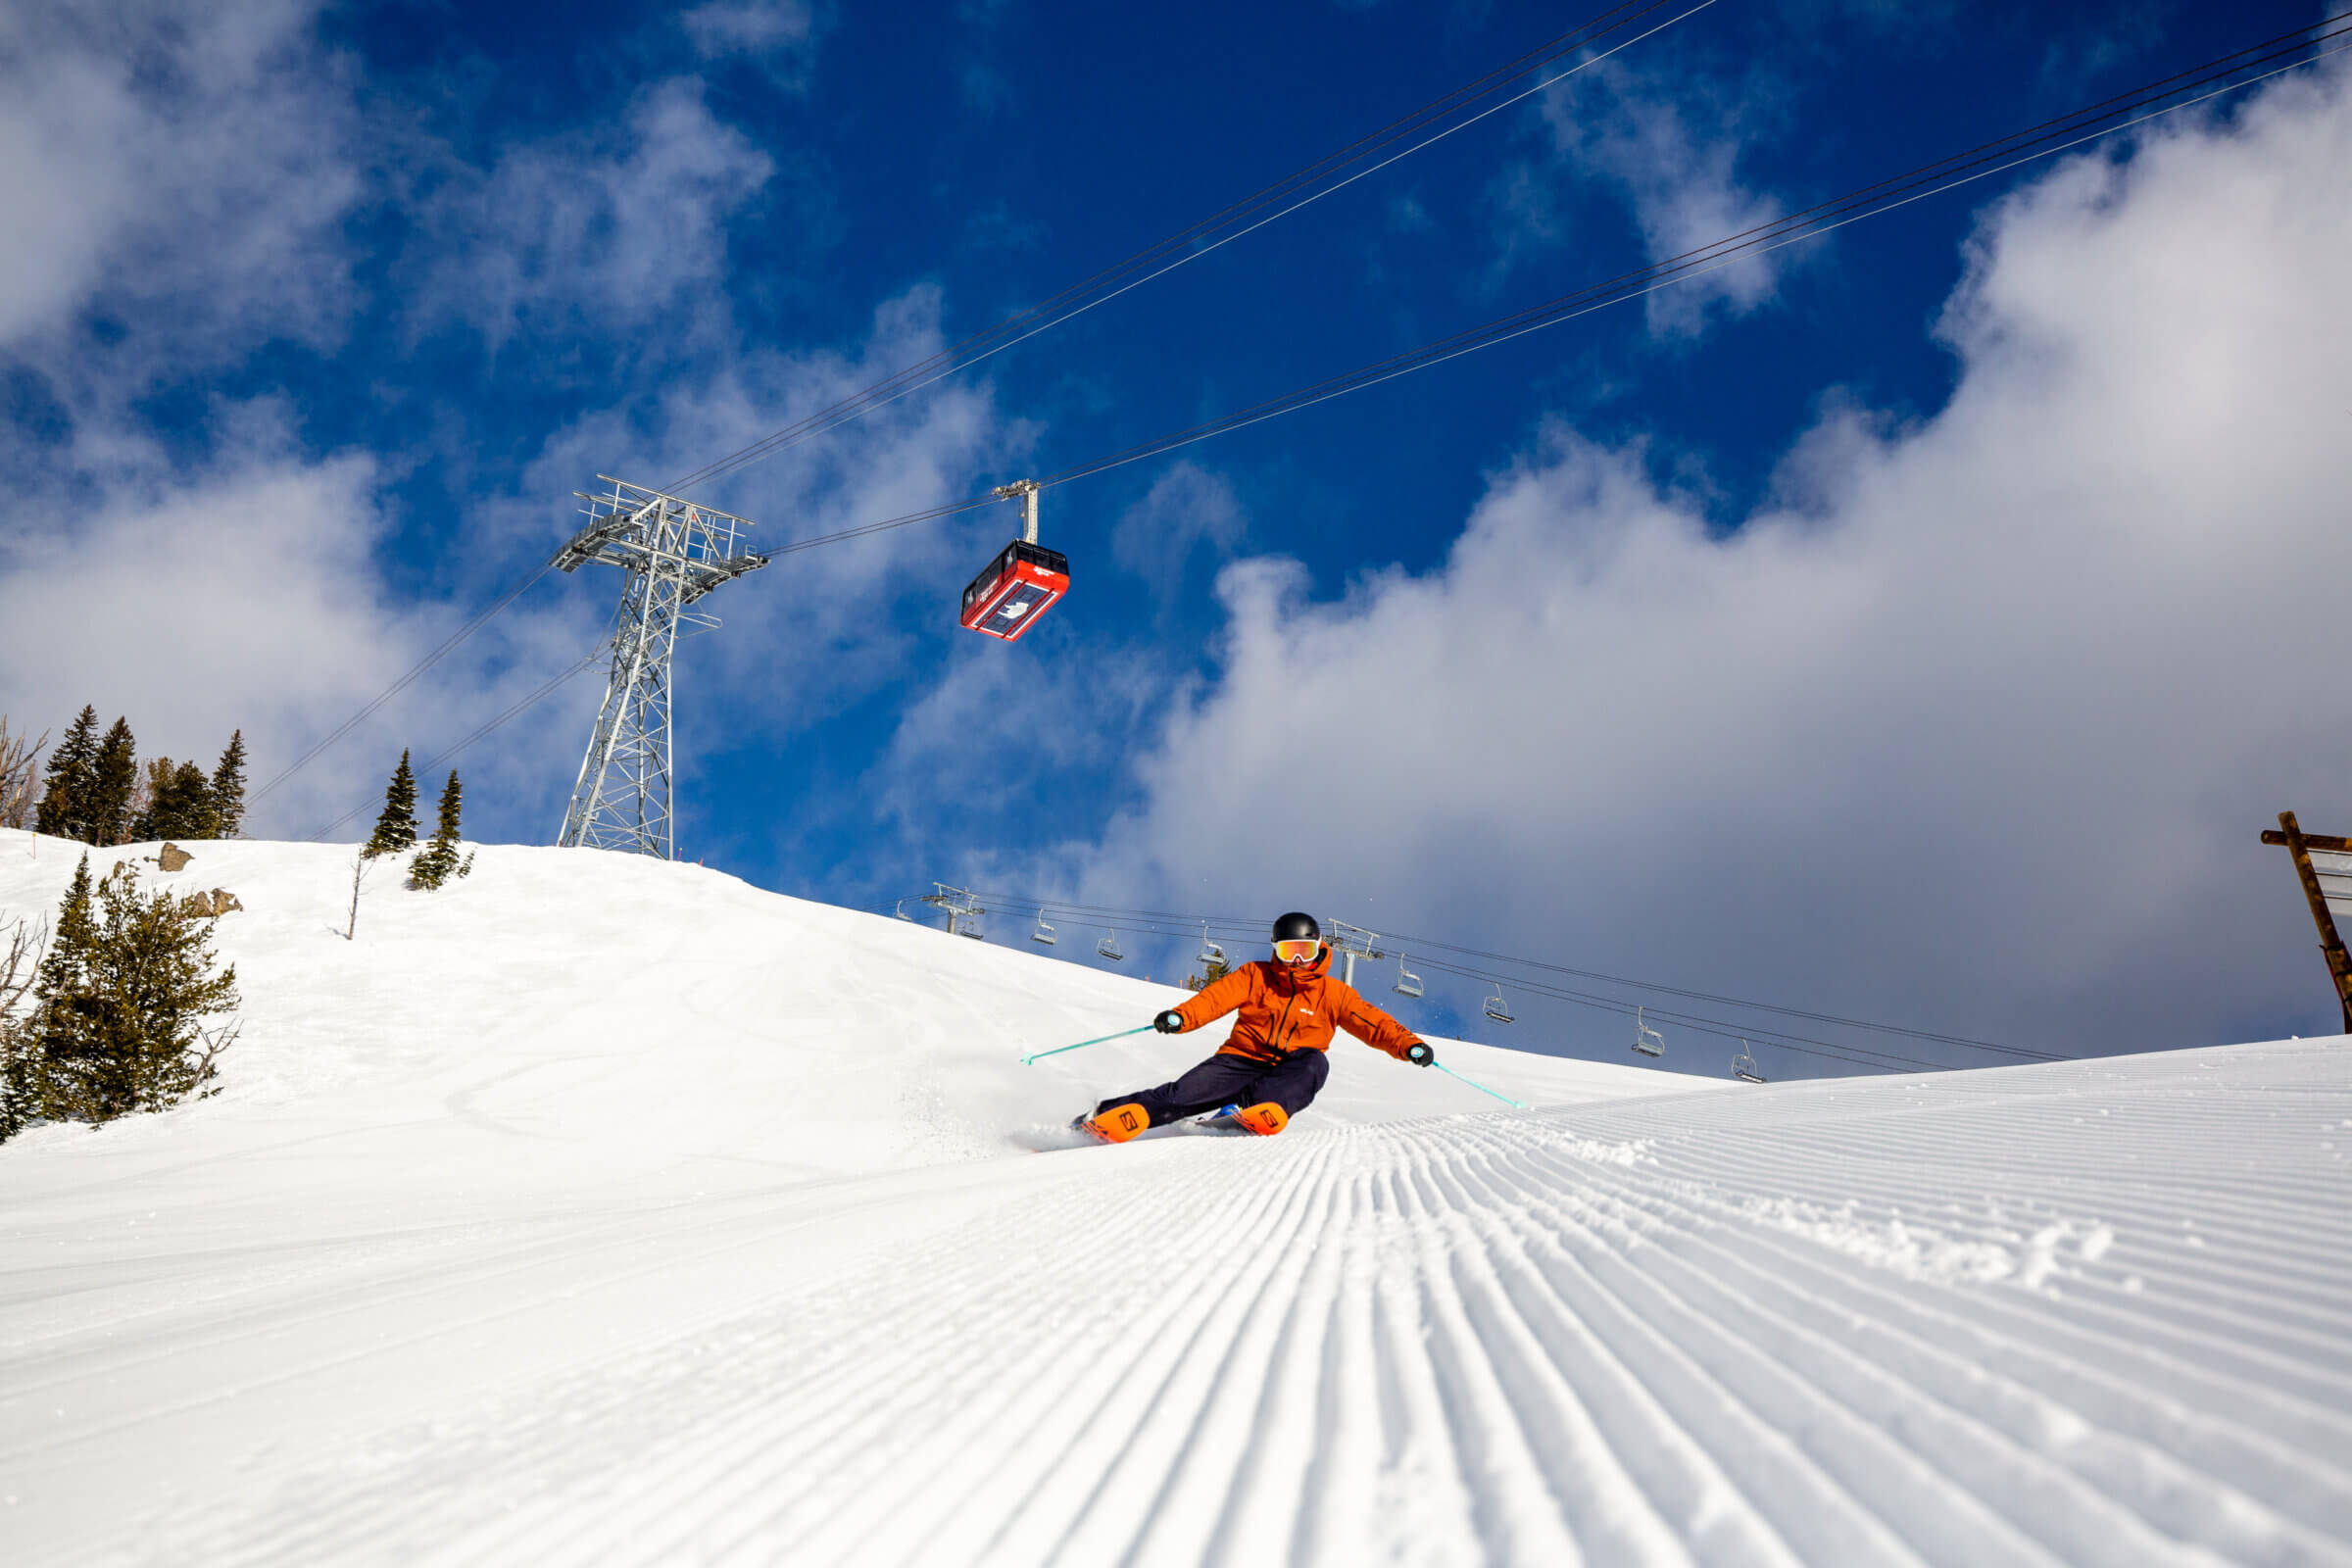skier: (1004, 908, 1442, 1158)
